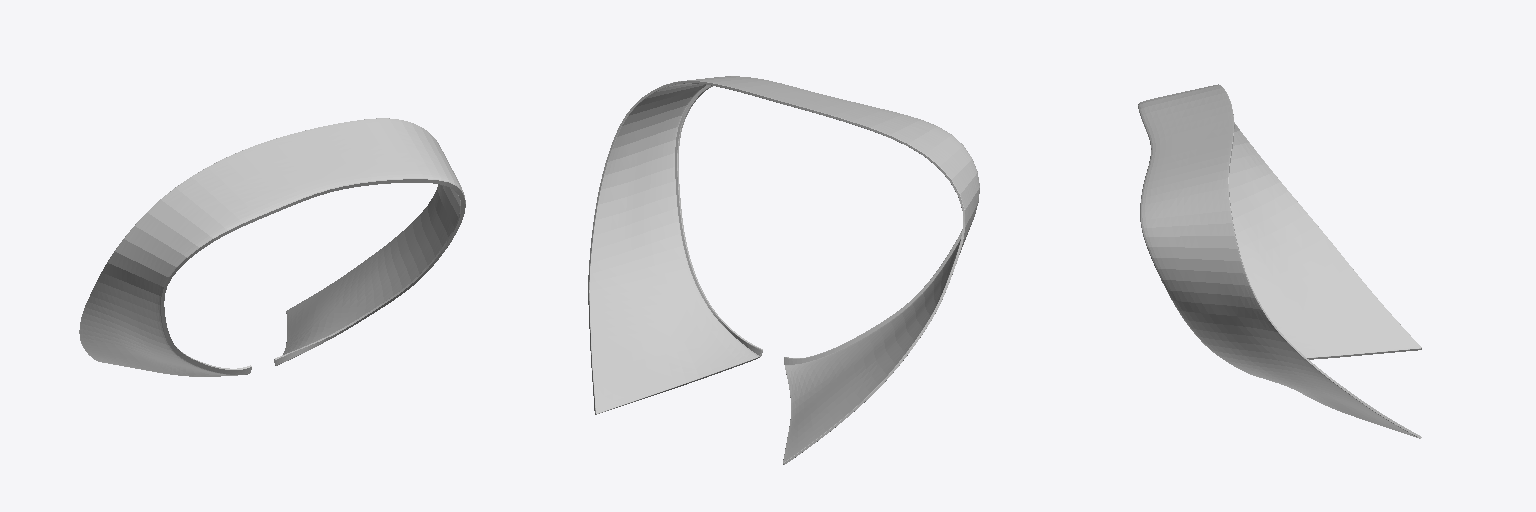
File: fix_regular_collar.obj
3 renders of one model, left to right at view 1: azimuth 30°, elevation 25°; view 2: azimuth 150°, elevation 25°; view 3: azimuth 270°, elevation 25°, orthographic.
Parts seen in each view (by area): view 1: Object035; view 2: Object035; view 3: Object035.
Boxes of the visible parts, box(x1,y1,x2,y2) form: Object035: box(79, 118, 465, 376); Object035: box(588, 76, 979, 464); Object035: box(1138, 84, 1421, 438).
Bounding box in the file's own units: 17.71 × 13.2 × 12.48.